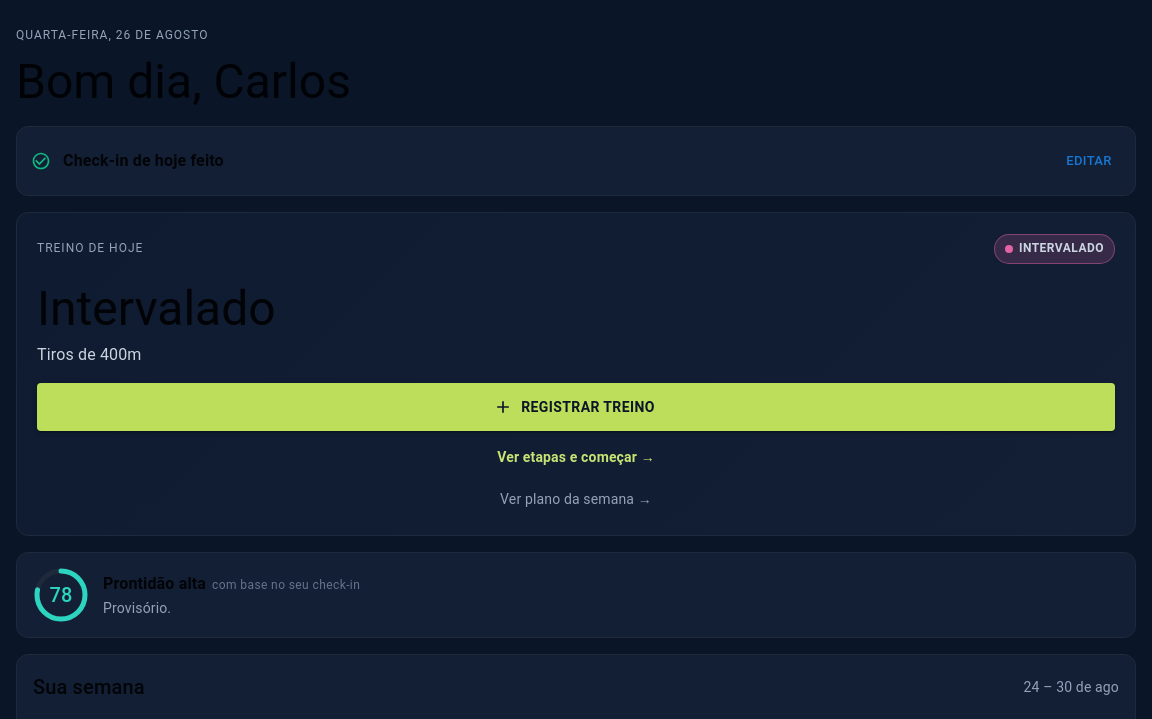
Test: AthleteHomePage › check-in › com check-in de hoje: linha "feito" sem horário; "Editar" abre o inline derivado e um toque envia o DTO completo
The image size is (1152, 719).
Expected: the text "Check-in de hoje feito" is shown, [63,151,224,170]
Expected: the text "com base no seu check-in" is shown, [212,576,360,596]
Click the button "Editar": (1089, 161) [1057,139,1121,183]
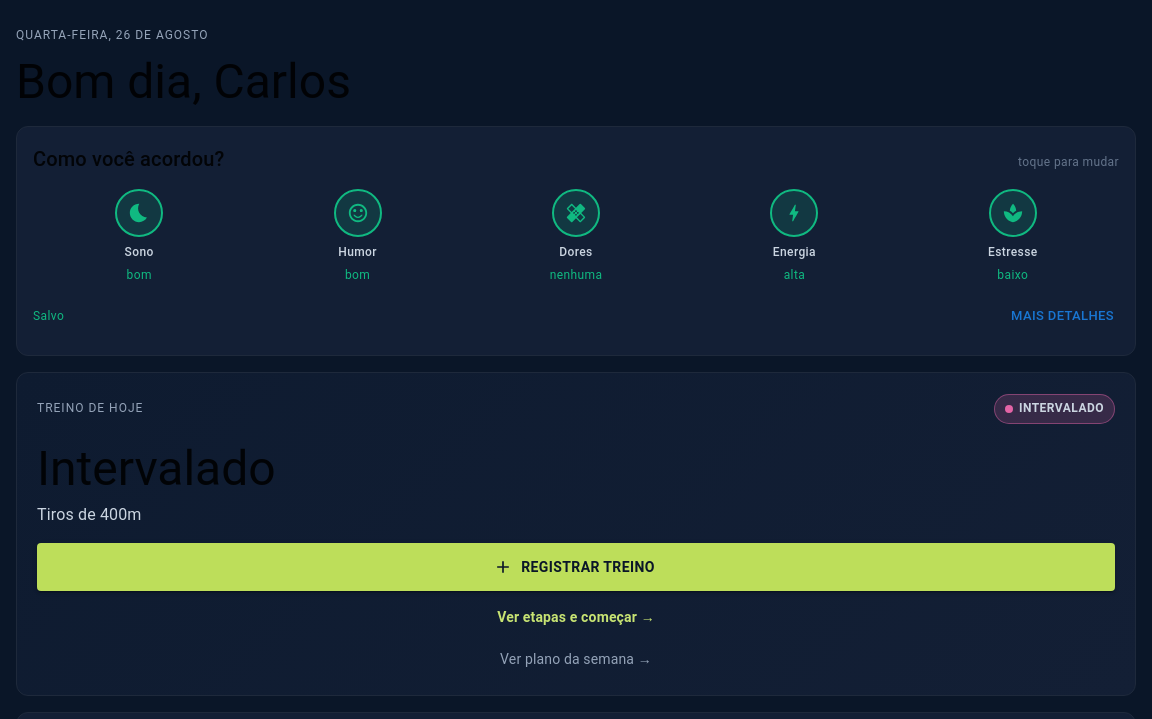
Expected: the heading "Como você acordou?" is shown, [33,143,224,175]
Expected: the text "Salvo" is shown, [33,307,64,327]
Click the button named "humor": (358, 213) [334,189,382,237]
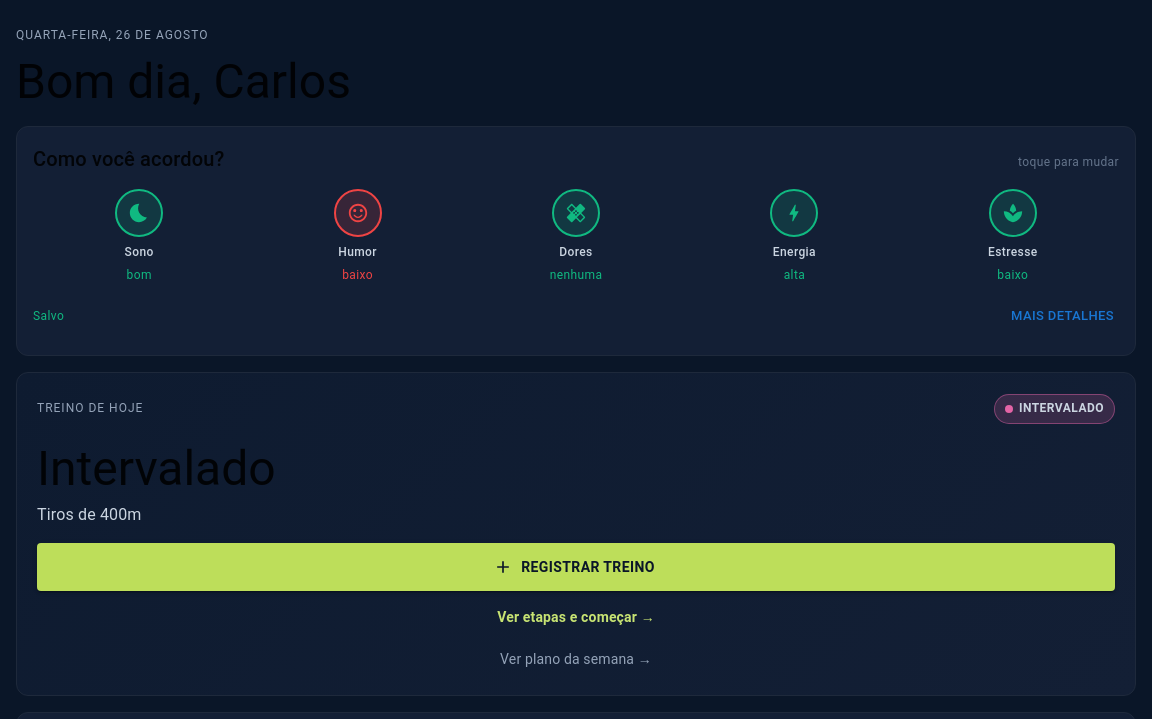
Note: O modal continua como caminho de precisão, pré-preenchido.
Click the button "Mais detalhes": (1062, 317) [1006,295,1119,339]
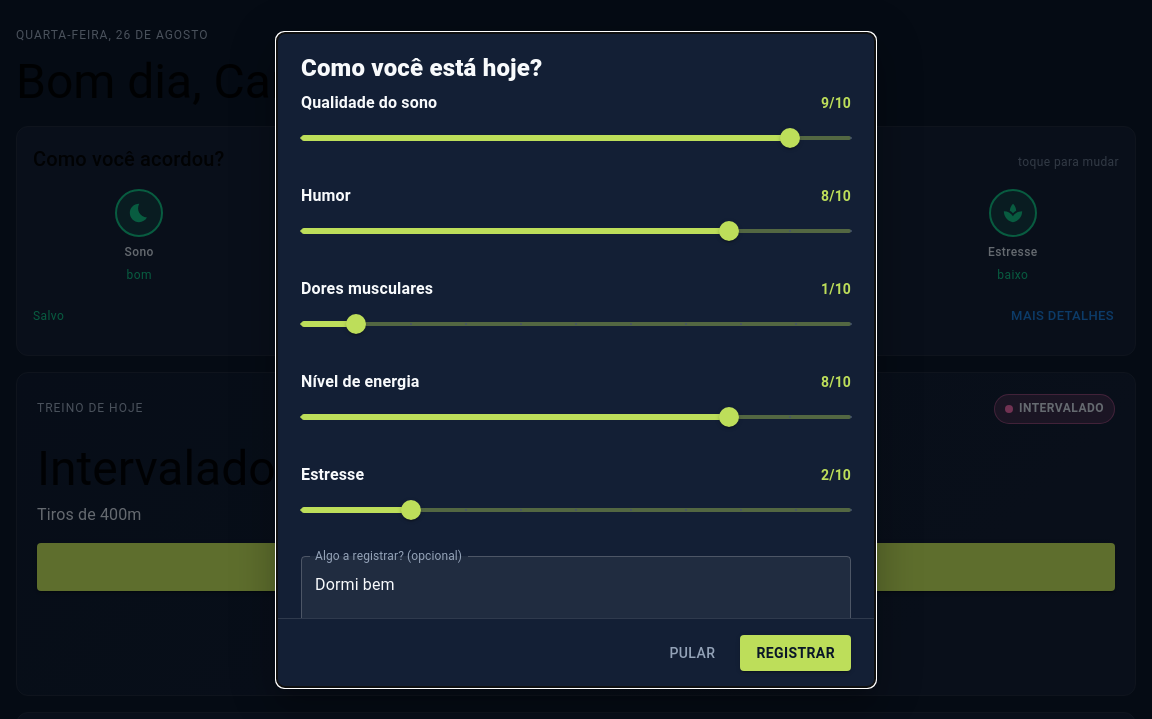
Expected: the heading "Como você está hoje?" is shown, [301,54,542,82]
Expected: the text box showing "Dormi bem" is shown, [315,573,837,618]
